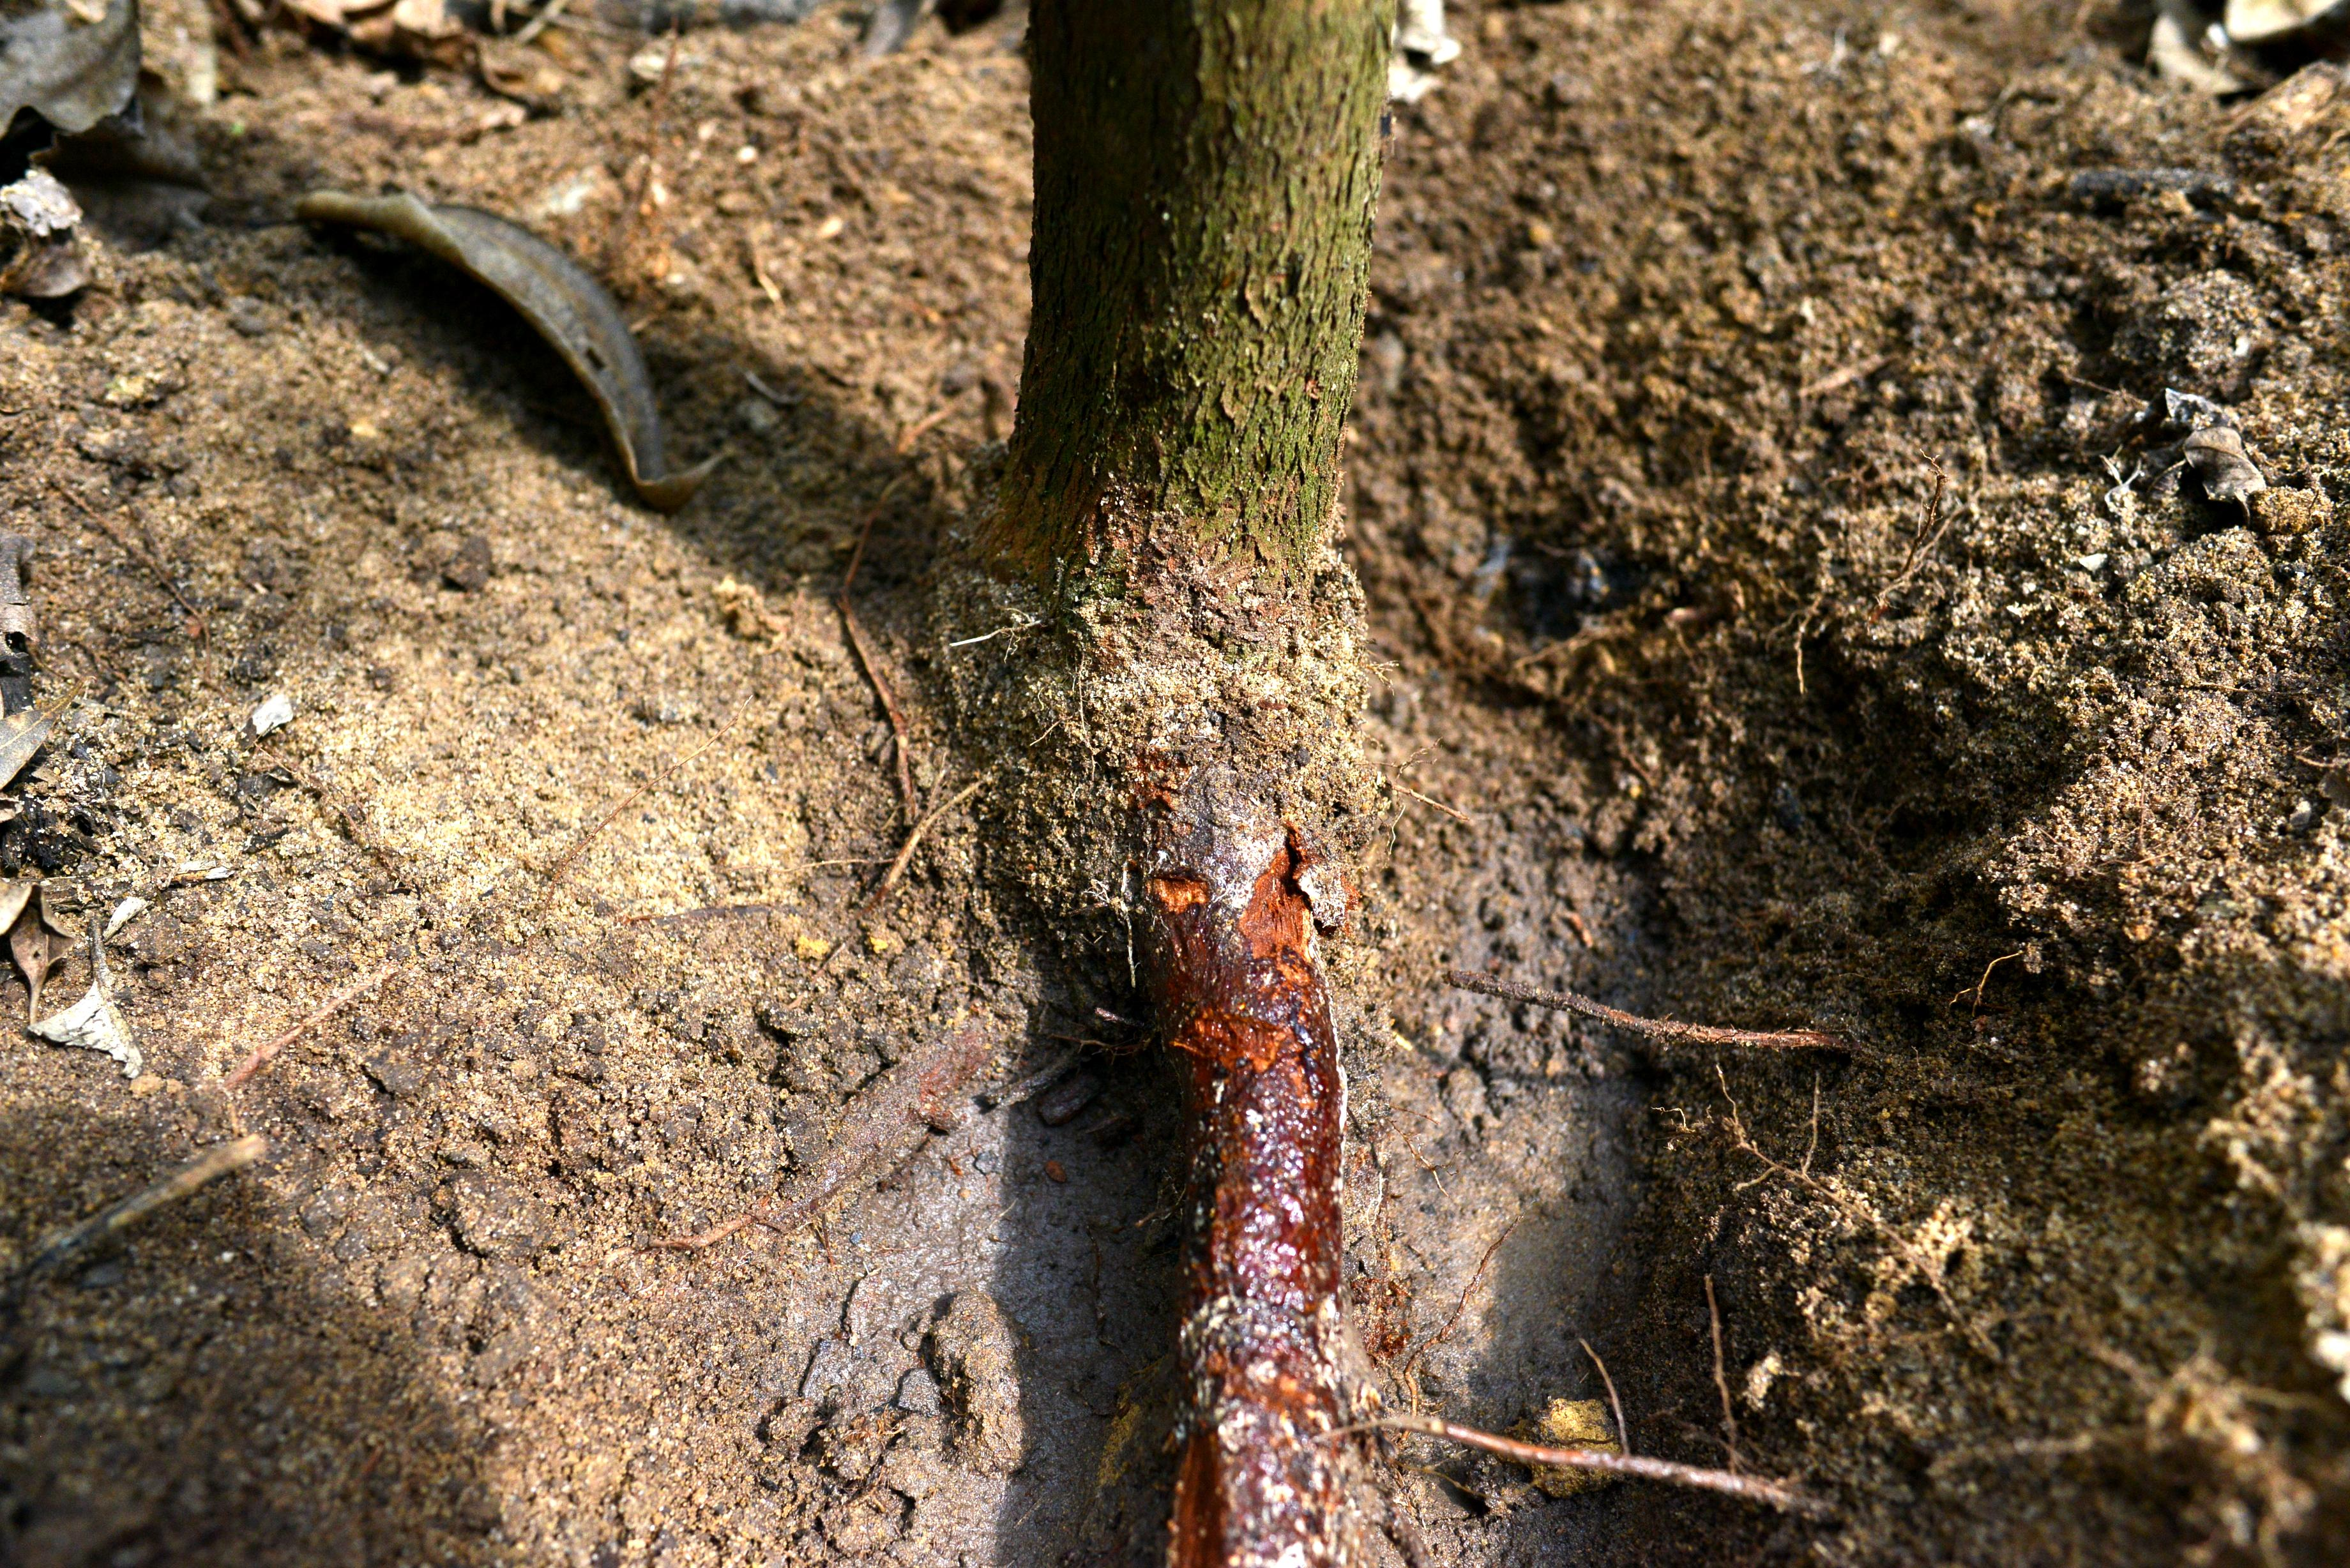Red Root Rot - Secretion: (1172, 905, 1363, 1568)
